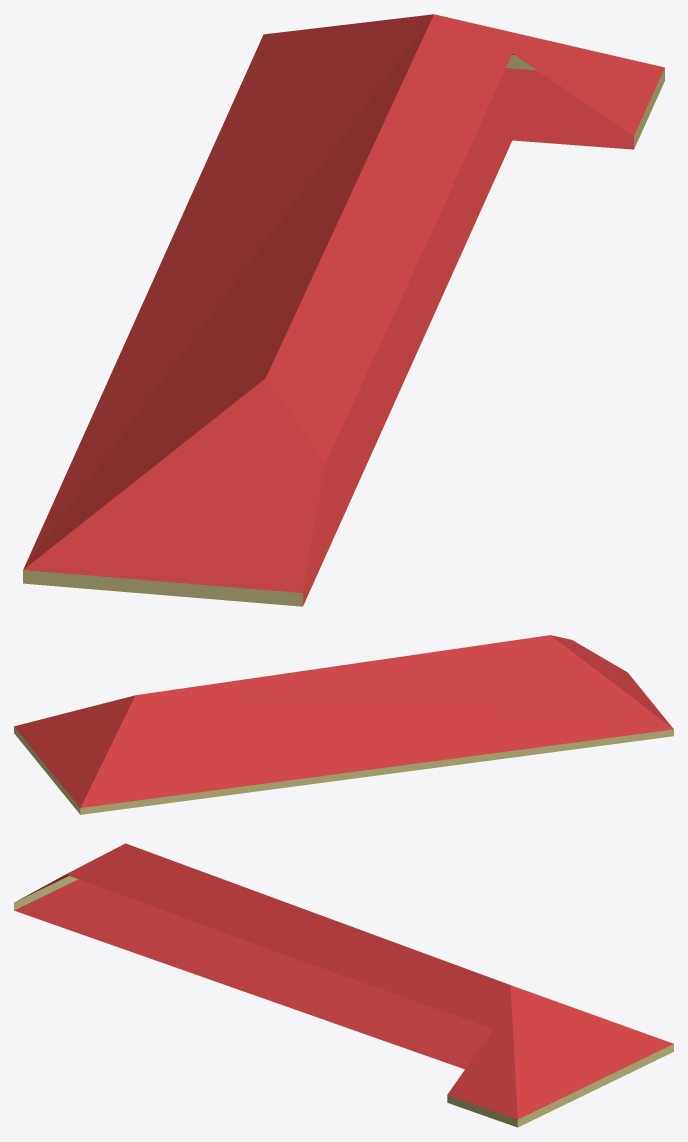
The picture shows the model from 3 angles, top to bottom: view 1: azimuth 30°, elevation 25°; view 2: azimuth 150°, elevation 25°; view 3: azimuth 270°, elevation 25°; orthographic projection. The views are drawn at different scales.
Bounding box in the file's own units: 7.56 × 7.57 × 1.06.
